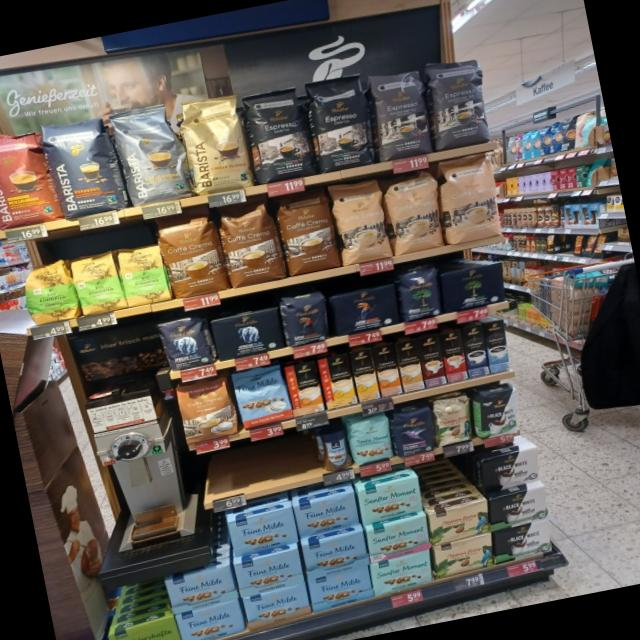Barista Kolumbien: (0, 117, 62, 234)
